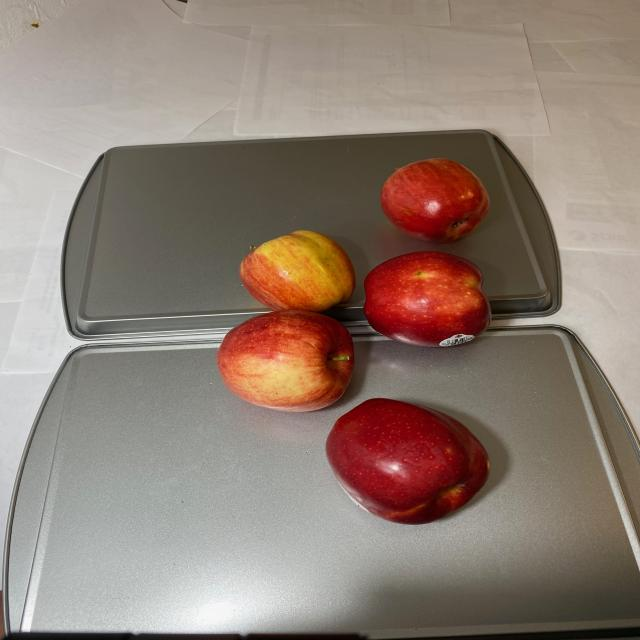Apple: (213, 155, 497, 528)
